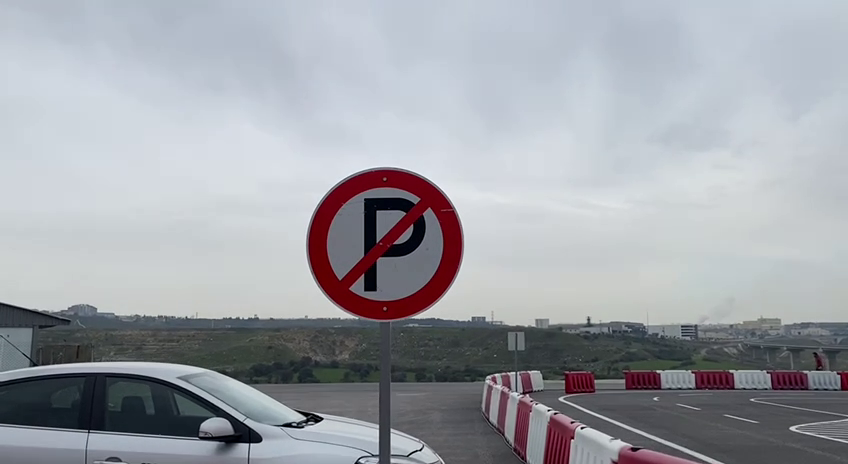noparking: (300, 157, 468, 328)
